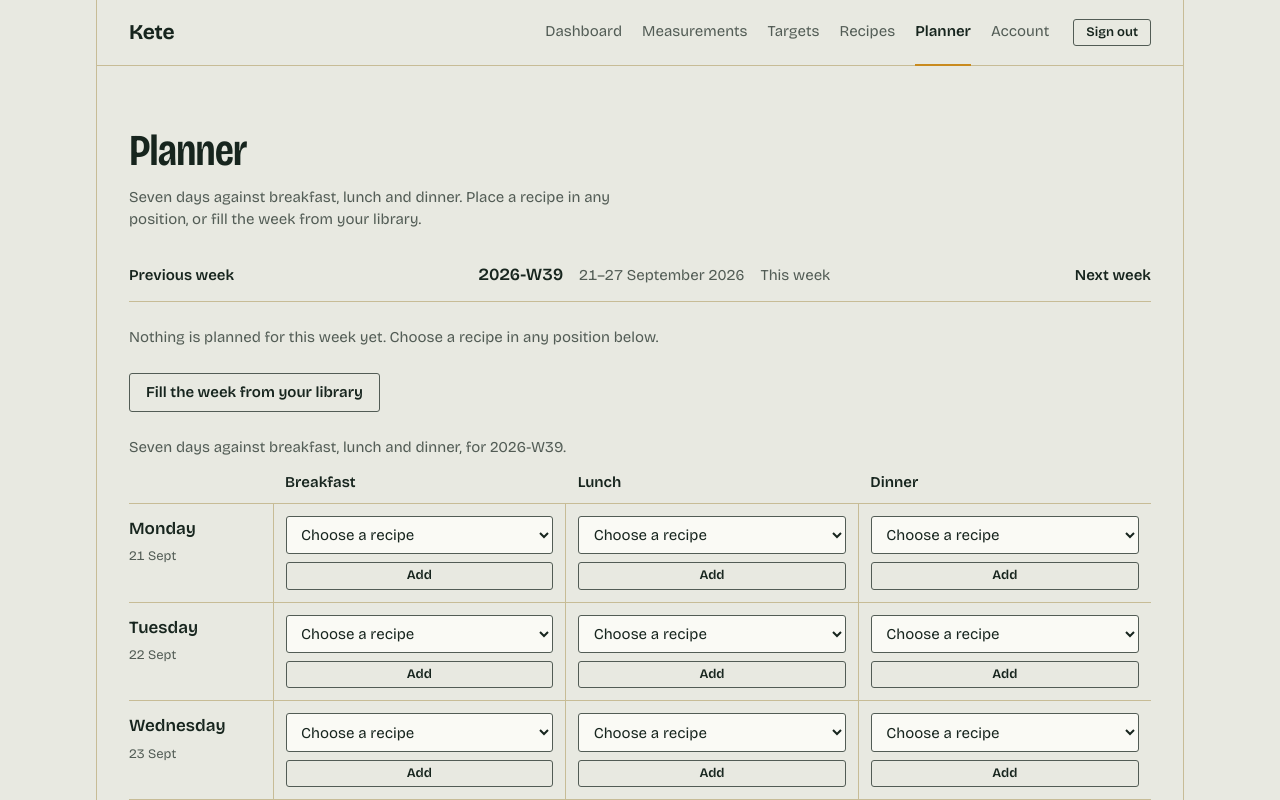
placing a recipe › sends an undeclared failure to the error boundary
Select "Kumara and lentil soup" in the dropdown named "Recipe for Monday breakfast" at (419, 535), box x1=286 y1=516 x2=553 y2=554
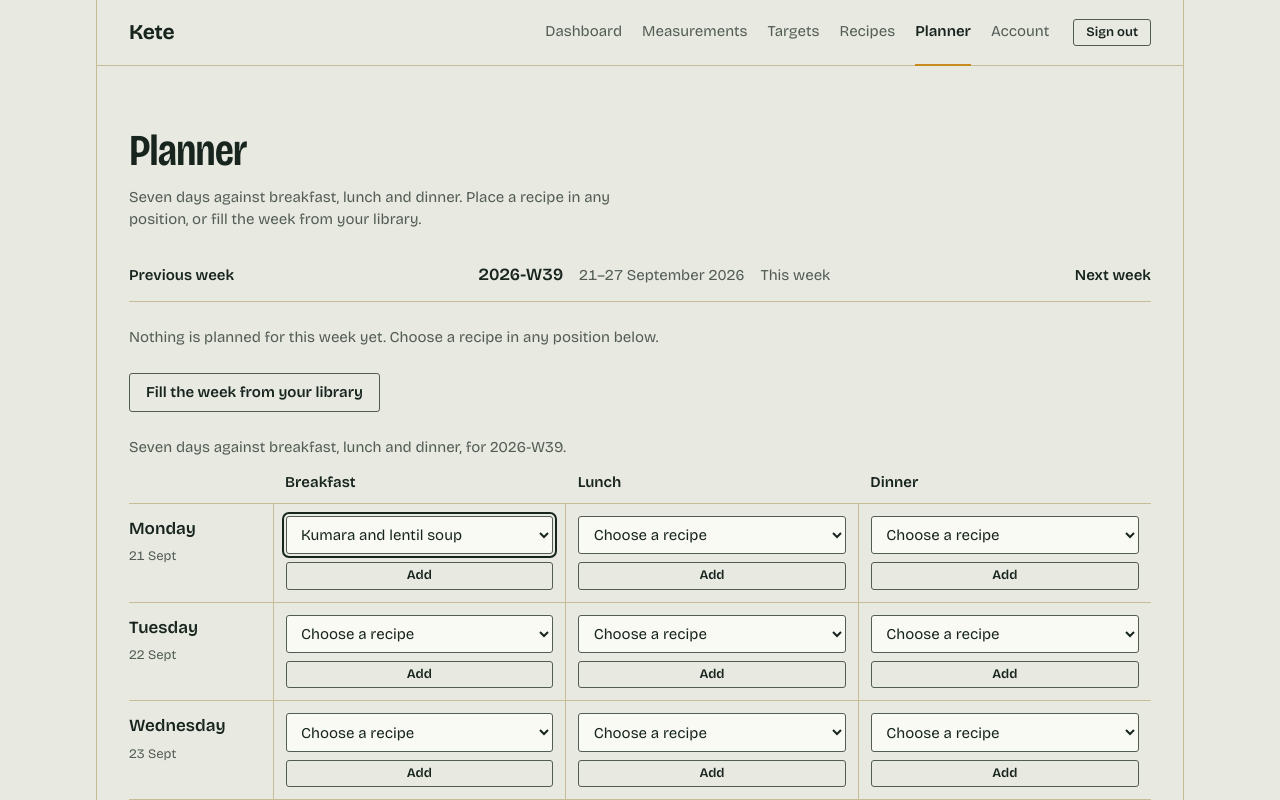
Click the button with aria-label "Add a recipe to Monday breakfast" at (419, 576), box x1=286 y1=562 x2=553 y2=590
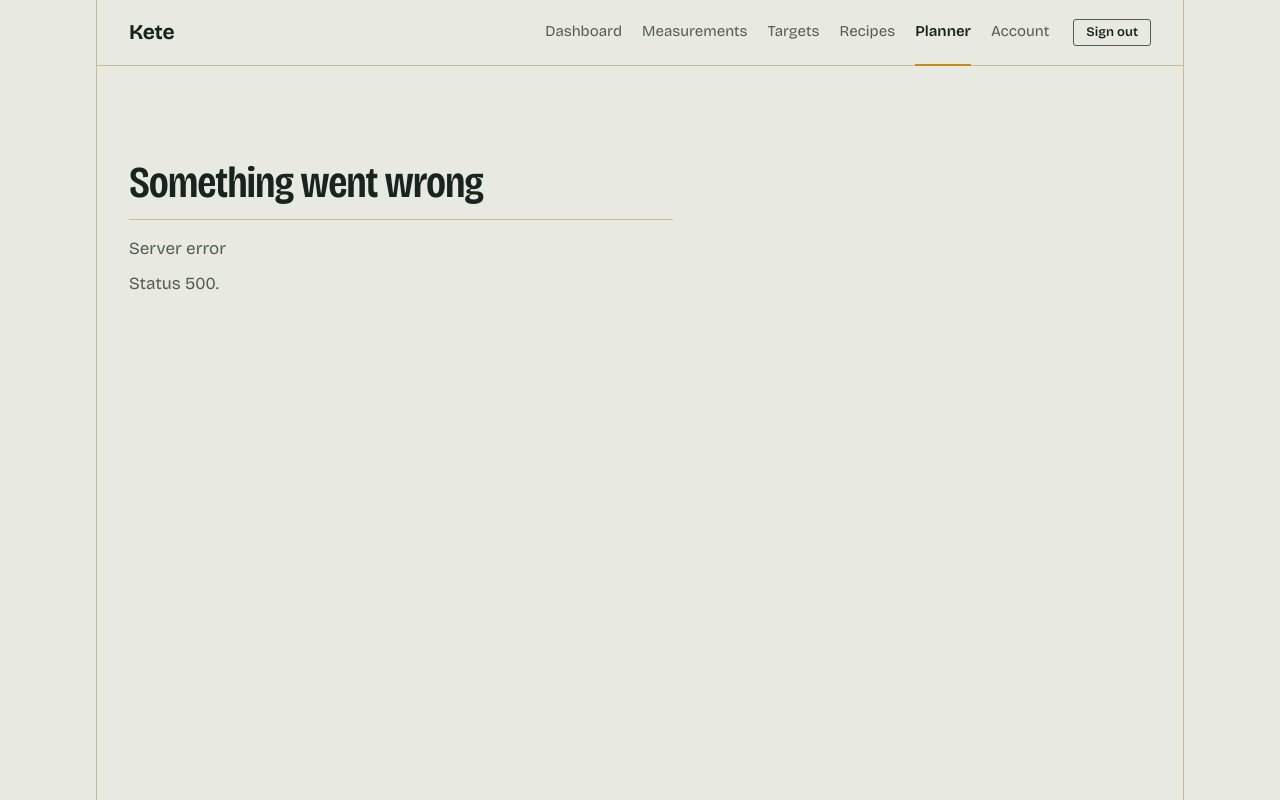
Check: the navigation bar named "Main" is shown, box x1=545 y1=0 x2=1049 y2=64
Check: the text "Status 500." is shown, box x1=129 y1=273 x2=219 y2=294
